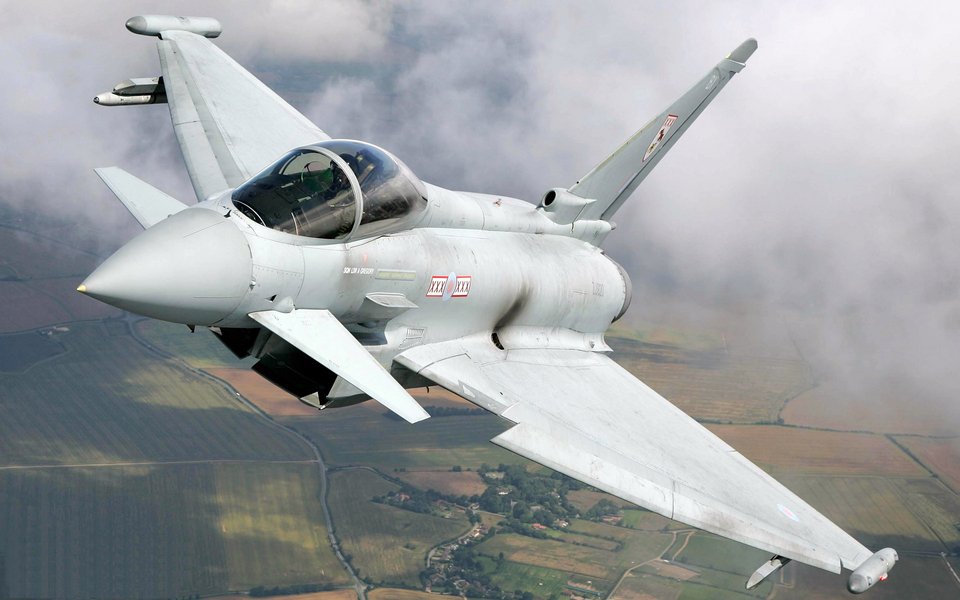airplane: (74, 9, 903, 585)
